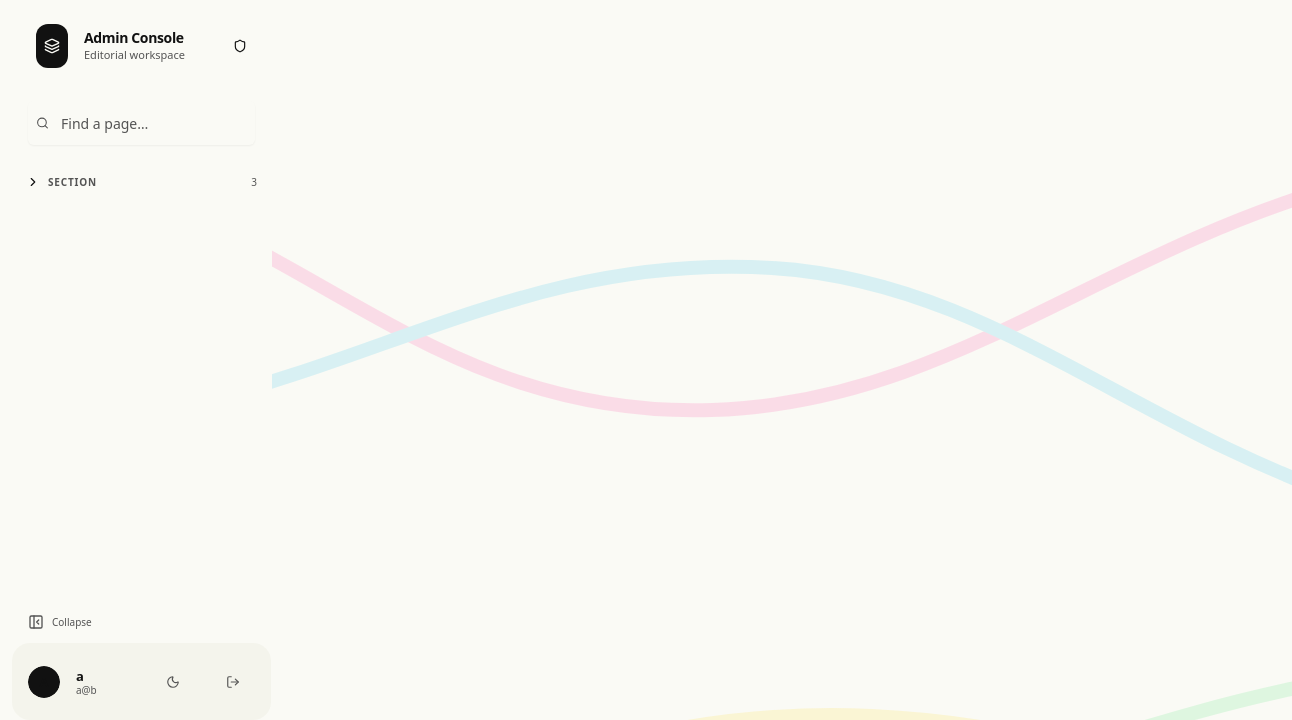
AdminSidebar › renders each nav item as a real link to its route
Click the button "SECTION 3" at (142, 182), box [18,162,265,202]
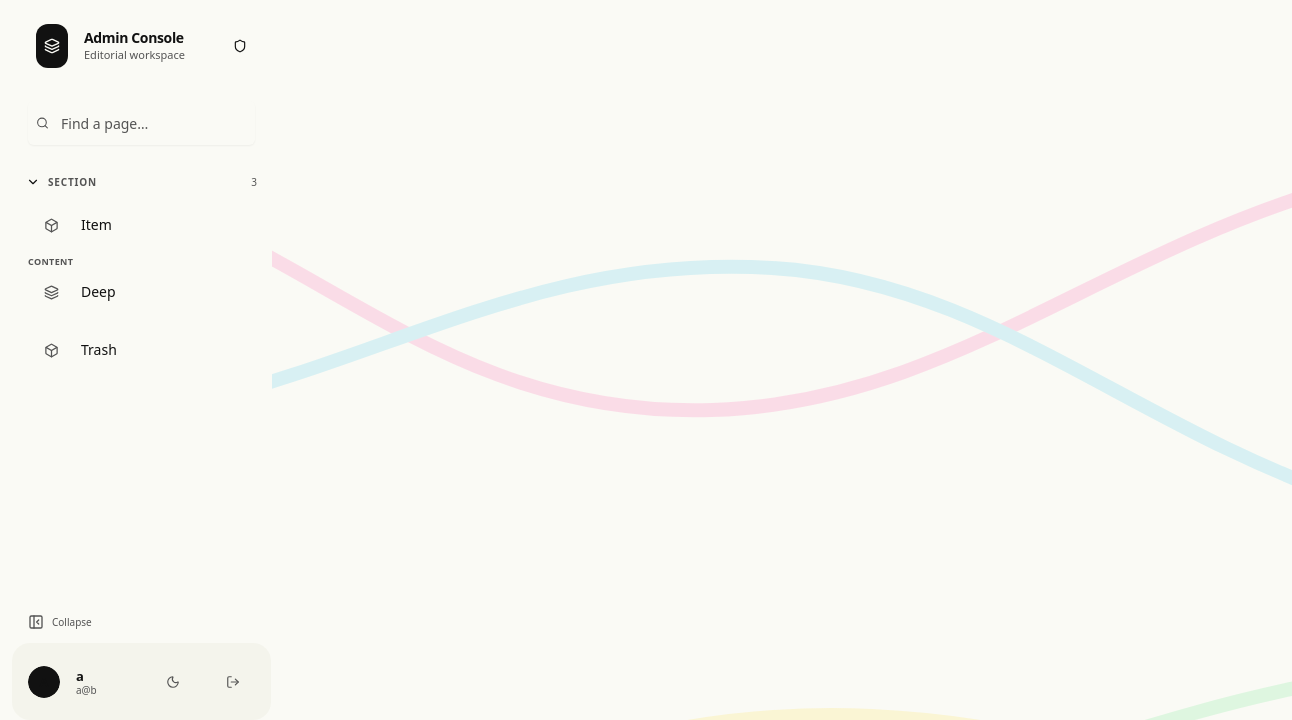
Check: the link to "/admin/x" reads "Item", box [44,215,112,234]
